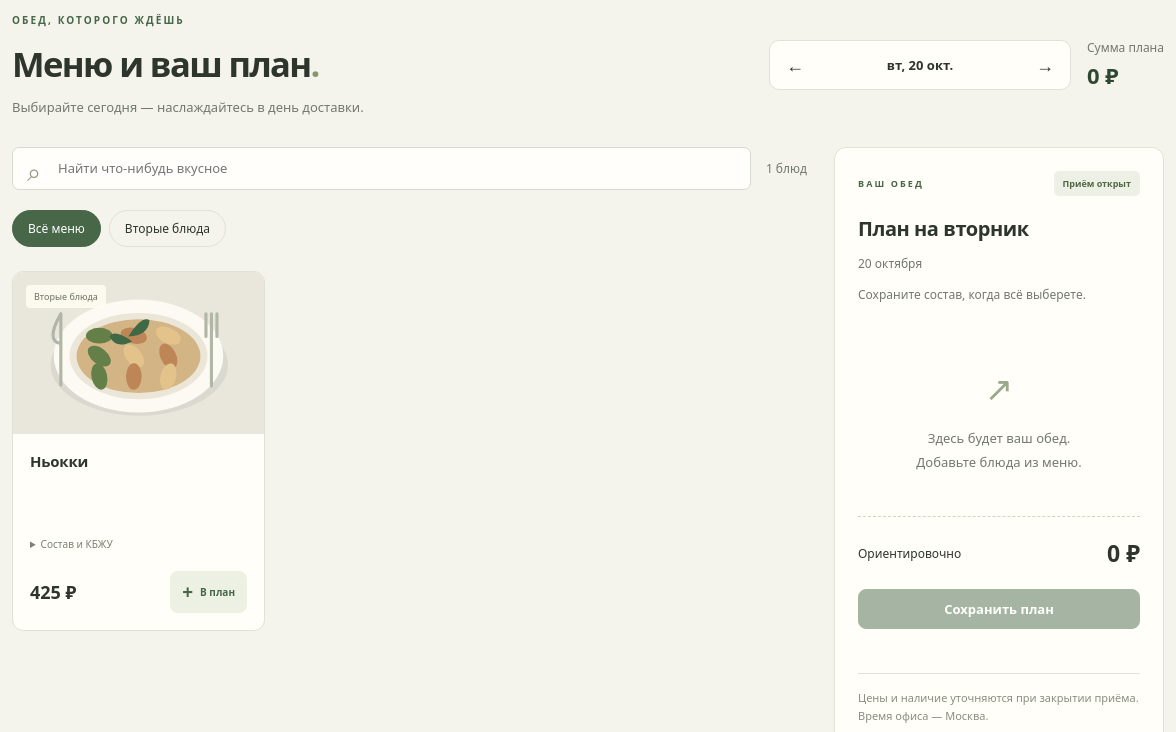
Test case: preserves the editable draft after a limit error so it can be corrected
The image size is (1176, 732).
Click the button with aria-label "Добавить Ньокки" at coordinates (209, 592), box x1=170 y1=571 x2=247 y2=613
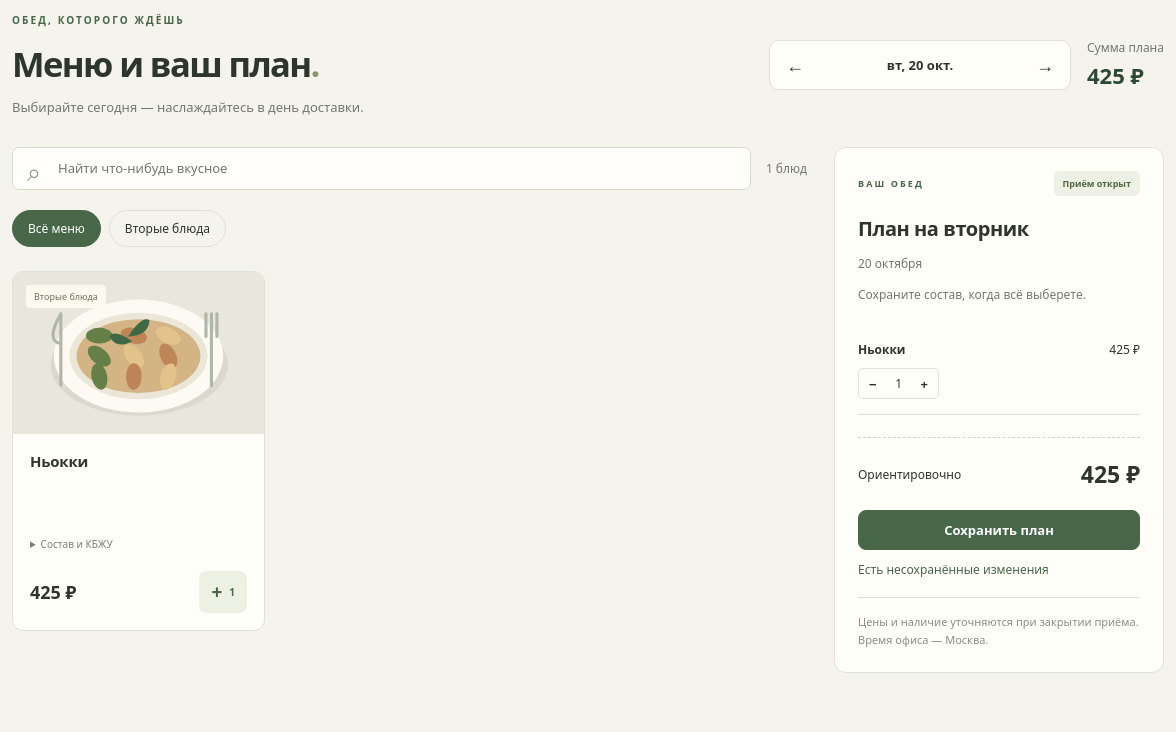
Click the button "Сохранить план" at coordinates (999, 530), box x1=858 y1=510 x2=1140 y2=550
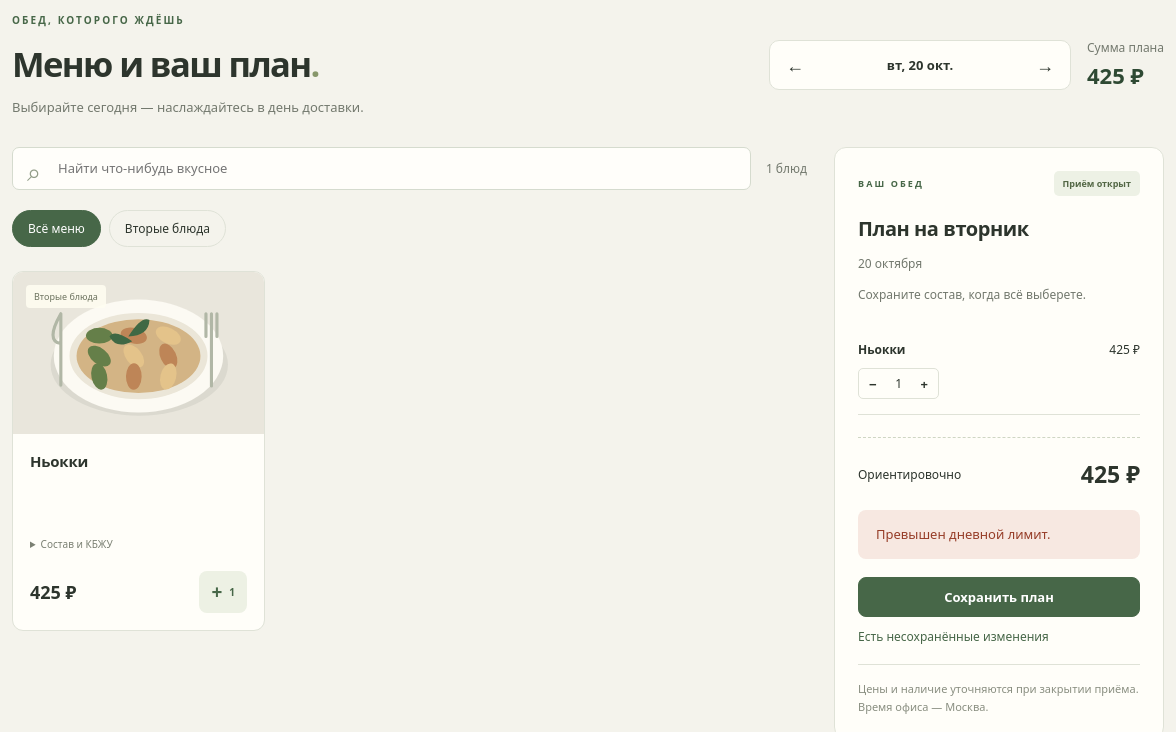
Expected: the text "Ньокки" is shown, x1=858 y1=341 x2=906 y2=358
Expected: the text "Есть несохранённые изменения" is shown, x1=858 y1=628 x2=1049 y2=645
Expected: the text "Превышен дневной лимит." is shown, x1=858 y1=510 x2=1140 y2=559
